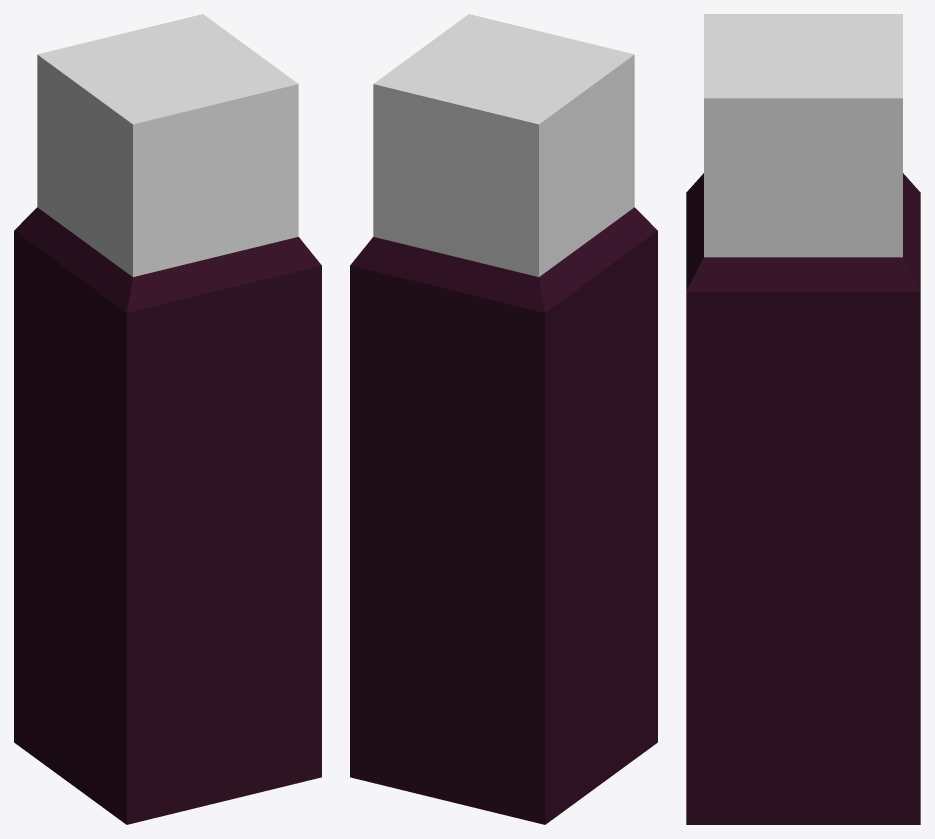
The model's file is showcase.fbx.
The picture shows the model from 3 angles, left to right: view 1: azimuth 30°, elevation 25°; view 2: azimuth 150°, elevation 25°; view 3: azimuth 270°, elevation 25°; orthographic projection. The views are drawn at different scales.
Visible parts, largest first — view 1: Cube; view 2: Cube; view 3: Cube.
Boxes of the visible parts, x1,y1,x2,y2 form: Cube: [14, 14, 321, 824]; Cube: [350, 14, 657, 824]; Cube: [686, 14, 920, 824].
Bounding box in the file's own units: 200 × 677 × 200.
